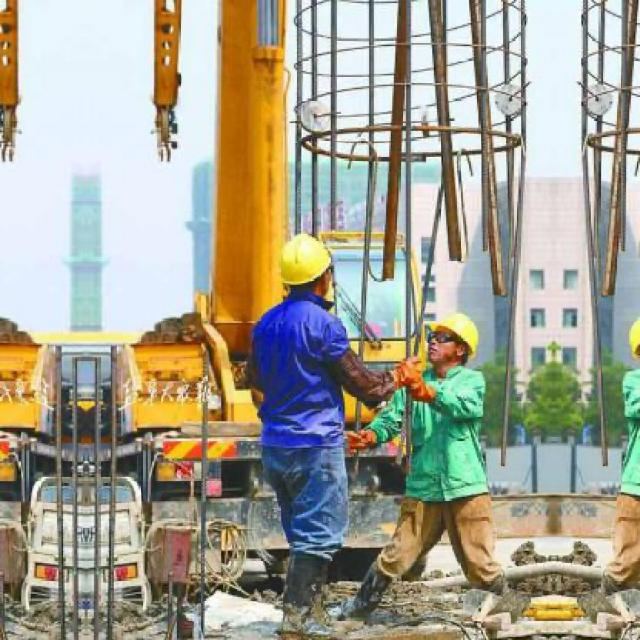helmet: (272, 226, 338, 308), (420, 310, 480, 372), (624, 308, 638, 372)
